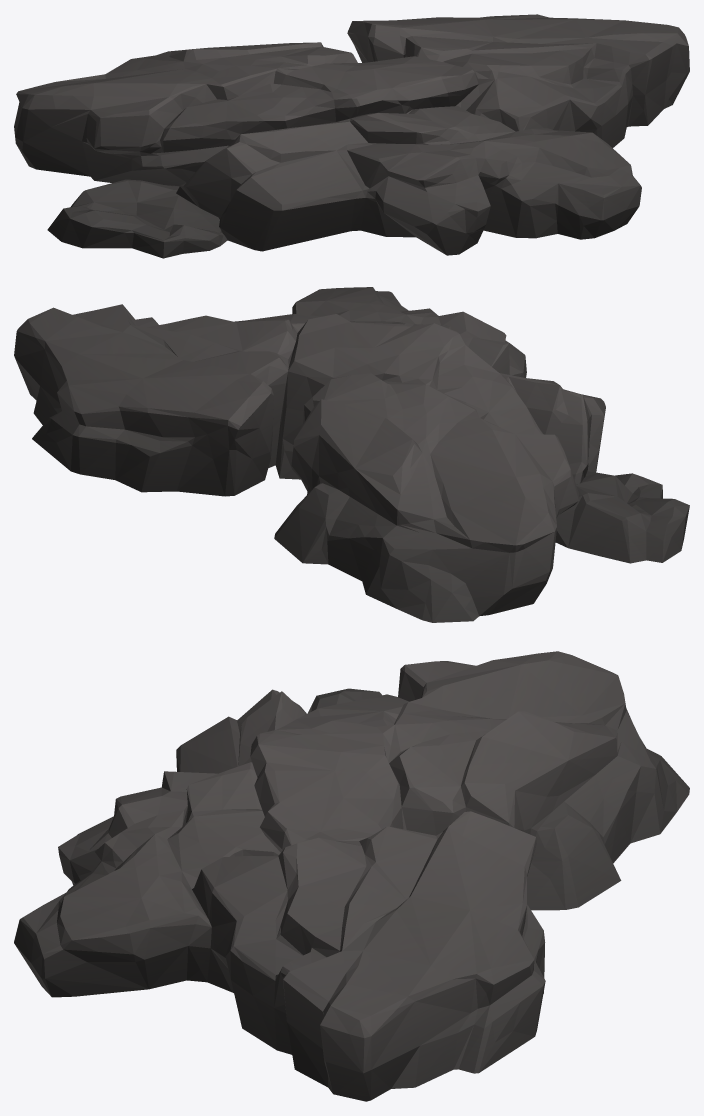
The model's file is ZLP_Rock_E_3.FBX.
The picture shows the model from 3 angles, top to bottom: view 1: azimuth 30°, elevation 25°; view 2: azimuth 150°, elevation 25°; view 3: azimuth 270°, elevation 25°; orthographic projection. The views are drawn at different scales.
Parts seen in each view (by area): view 1: ZLP_Rock_E_3; view 2: ZLP_Rock_E_3; view 3: ZLP_Rock_E_3.
Boxes of the visible parts, bbox=[...] form: ZLP_Rock_E_3: bbox=[14, 14, 689, 258]; ZLP_Rock_E_3: bbox=[14, 287, 689, 622]; ZLP_Rock_E_3: bbox=[14, 651, 689, 1101].
Size of the model in its own units: 731 by 130 by 536.
